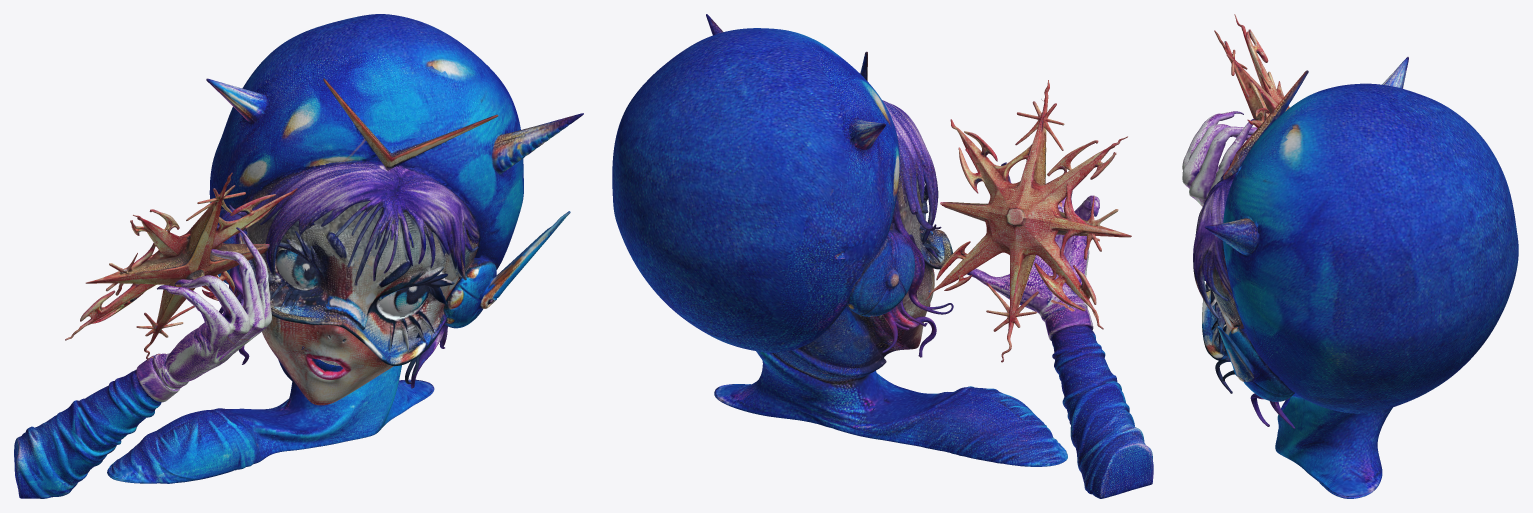
The model's file is Dollweb.glb.
3 views of the same model, side by side, from view 1: azimuth 30°, elevation 25°; view 2: azimuth 150°, elevation 25°; view 3: azimuth 270°, elevation 25° (orthographic). The views are drawn at different scales.
Visible parts, largest first — view 1: stylized character 3d model, stylized character 3d model.001; view 2: stylized character 3d model, stylized character 3d model.001; view 3: stylized character 3d model, stylized character 3d model.001.
Part boxes in pixels (box(x1,y1,x2,y2)): stylized character 3d model: box(14, 14, 583, 498); stylized character 3d model.001: box(65, 172, 297, 359); stylized character 3d model: box(612, 14, 1153, 498); stylized character 3d model.001: box(925, 80, 1131, 362); stylized character 3d model: box(1182, 57, 1518, 498); stylized character 3d model.001: box(1214, 14, 1289, 127).
Bounding box in the file's own units: 0.9806 × 0.6768 × 0.5489.
Materials: 1 (1 with a texture image).
